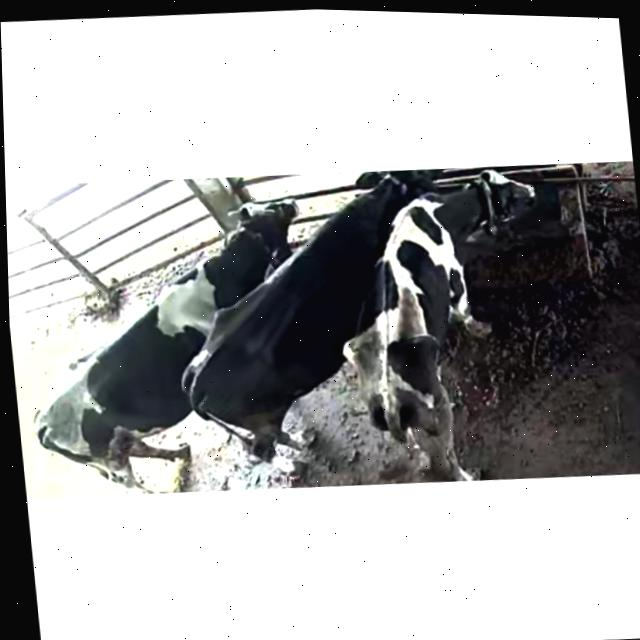drink: (315, 166, 437, 256)
